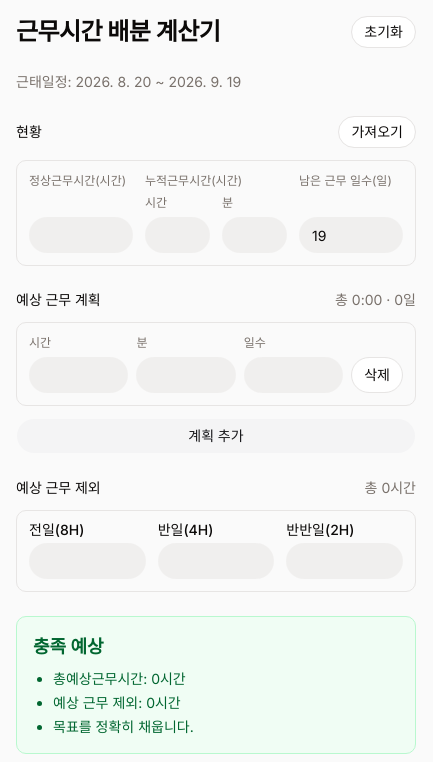
Test: 초기화 버튼을 누르면 남은 근무 일수는 오늘 날짜 기준으로 다시 계산된다
Replace the text in the number field labelled "남은 근무 일수(일)" with "999" at (351, 235), box top-left (299, 217), bottom-right (403, 253)
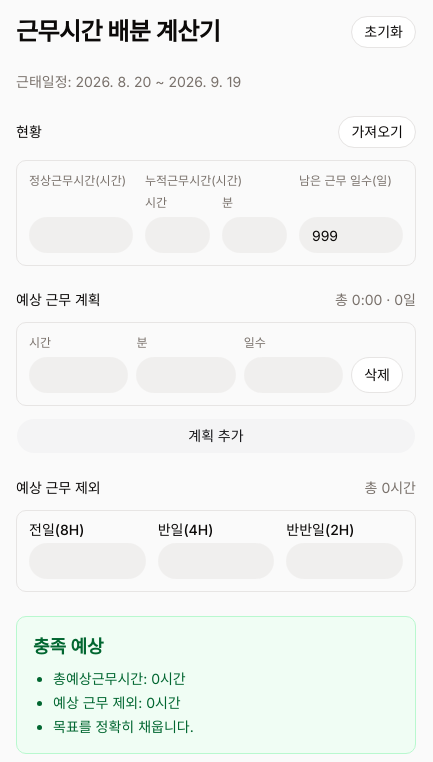
Click the button "초기화" at (384, 32), box top-left (351, 16), bottom-right (416, 48)
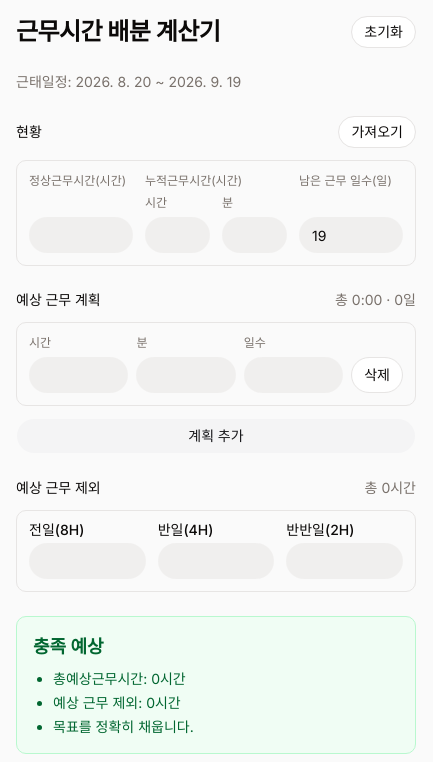
Expected: the number field labelled "남은 근무 일수(일)" holds "19", top-left (299, 217), bottom-right (403, 253)
